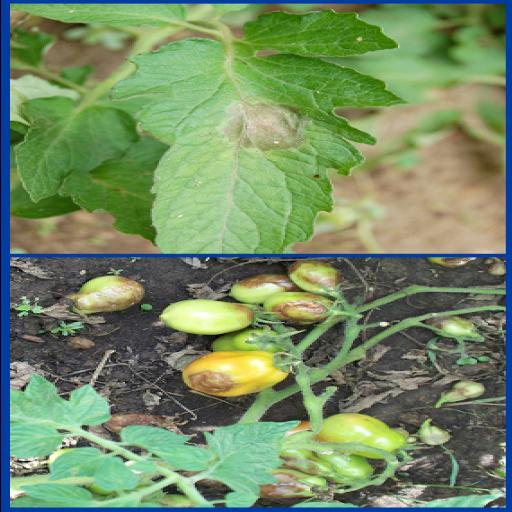disease_tomato: (101, 13, 397, 253)
